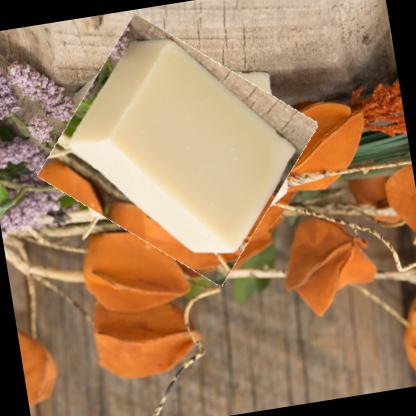soap: (35, 13, 320, 286)
